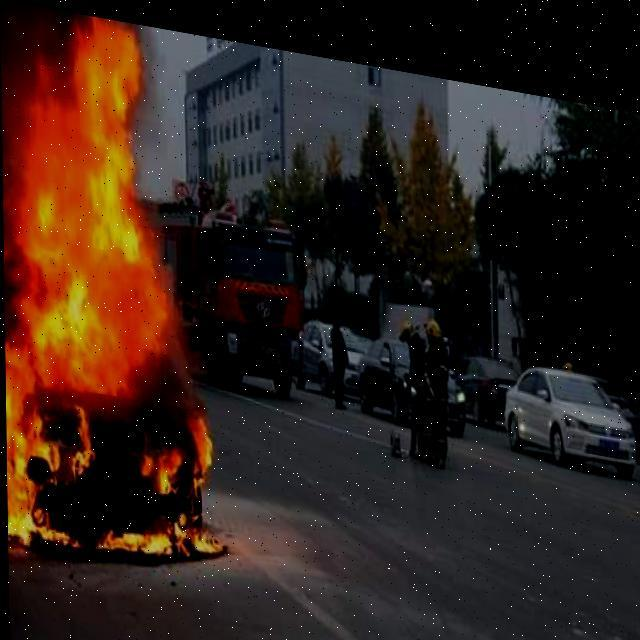Fire: (0, 0, 228, 578)
